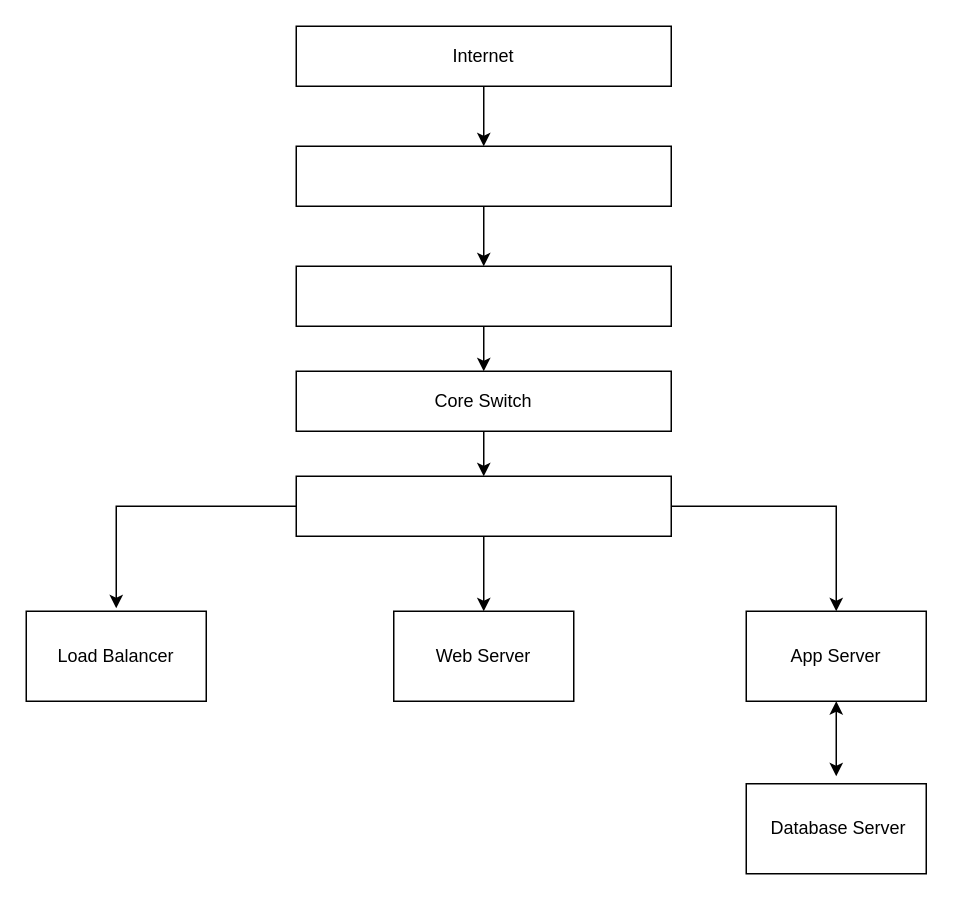
Image size: 953x900. Some labels were removed from this diagram. Each missing label, with the centre of its shape:
"Access Switch" belongs at point 483,505.
"ISP Router" belongs at point 483,175.
"Next Generation Firewall" belongs at point 483,295.
